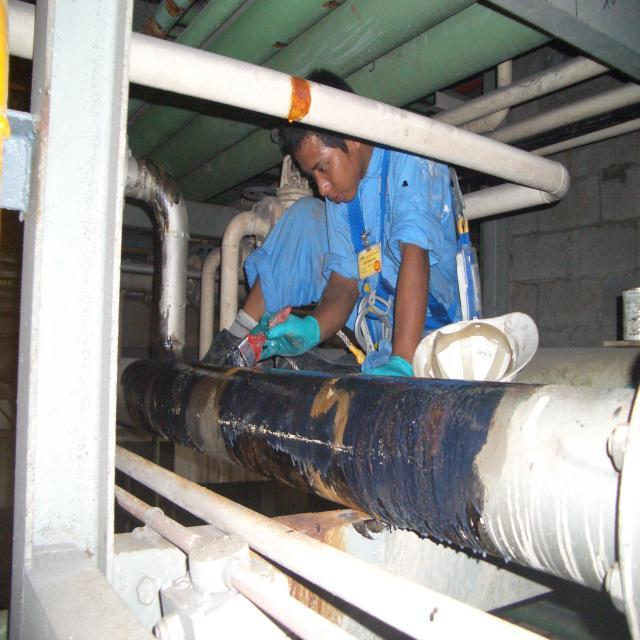Corrosion: (123, 152, 519, 565), (31, 57, 49, 217), (142, 1, 180, 38), (317, 0, 344, 11), (272, 38, 290, 53)
